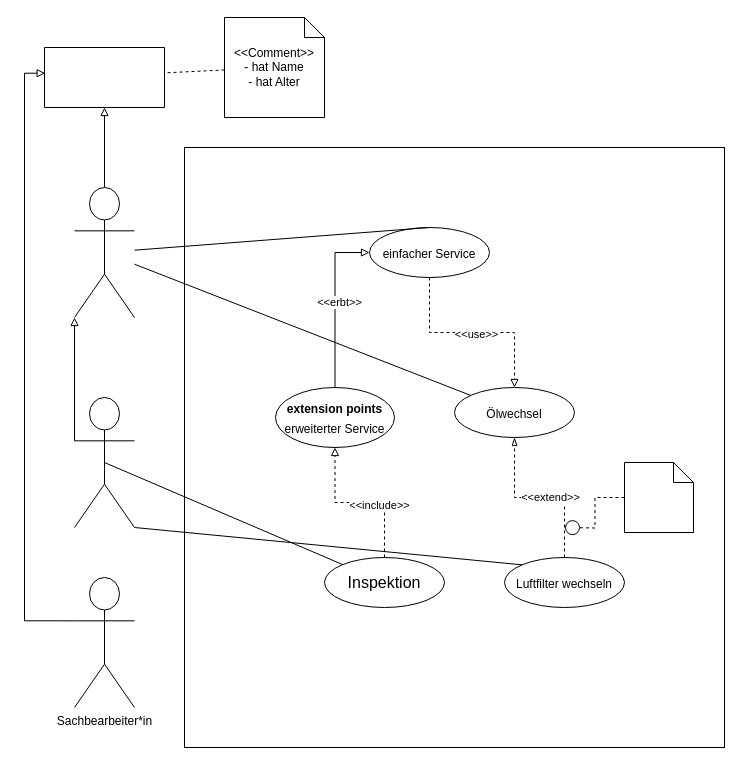
Image size: 742x765. Some labels were removed from this diagram. Here are the shapes that lost their labels. From the top down, the box of each, then its label:
(44, 46, 164, 108): <<actor>> Mitarbeiter
(74, 186, 134, 318): Azubi
(74, 396, 134, 528): Meister
(624, 462, 694, 532): wenn Kunde beauftragt
